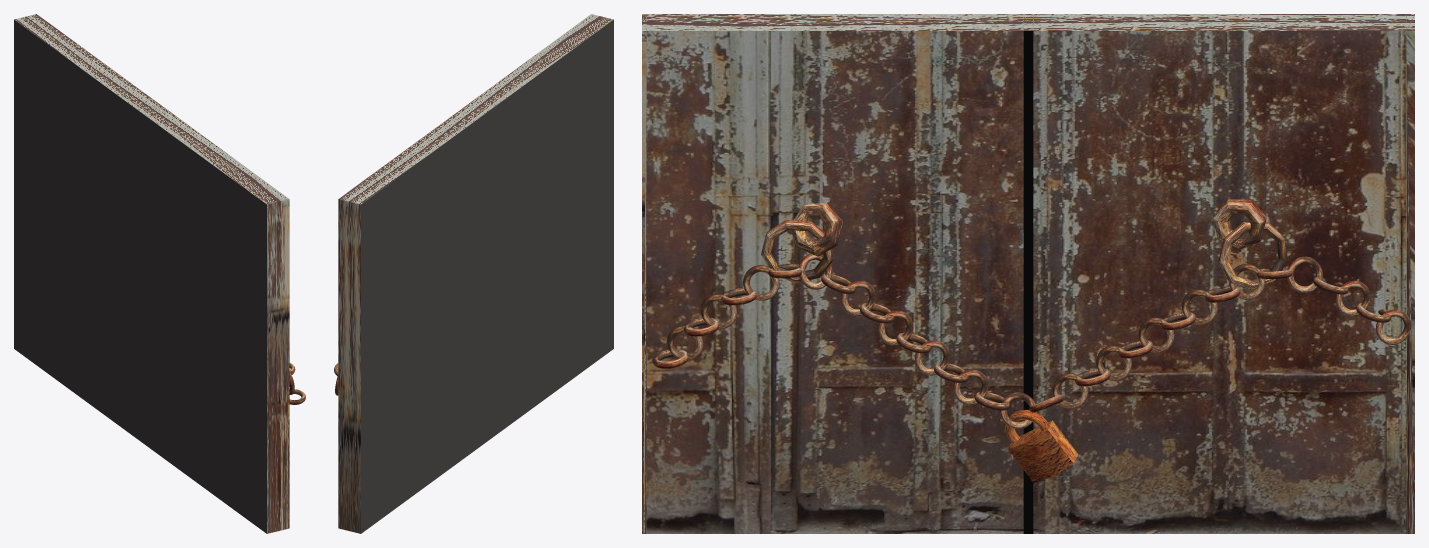
Rendered from Puerta CERRADA.fbx.
3 views of the same model, side by side, from view 1: azimuth 30°, elevation 25°; view 2: azimuth 150°, elevation 25°; view 3: azimuth 270°, elevation 25° (orthographic). The views are drawn at different scales.
Parts seen in each view (by area): view 1: pCube1; view 2: pCube1; view 3: pCube1, MASH1_ReproMesh, pCube2, pasted__pTorus1, pTorus1, pTorus2, pasted__pTorus2.
Part boxes in pixels (x1=…): pCube1: x1=14, y1=14, x2=289, y2=533; pCube1: x1=338, y1=14, x2=613, y2=533; pCube1: x1=642, y1=14, x2=1414, y2=533; MASH1_ReproMesh: x1=652, y1=253, x2=1411, y2=428; pCube2: x1=1008, y1=420, x2=1078, y2=482; pasted__pTorus1: x1=792, y1=203, x2=842, y2=256; pTorus1: x1=1212, y1=199, x2=1266, y2=249; pTorus2: x1=1218, y1=221, x2=1287, y2=290; pasted__pTorus2: x1=761, y1=219, x2=833, y2=283.
Bounding box in the file's own units: 1.88 × 12.65 × 17.61.
7 materials, 4 textured.
